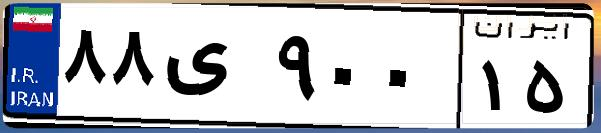0: (385, 28, 445, 110), (330, 28, 385, 110)
1: (475, 38, 525, 113)
5: (525, 38, 570, 115)
8: (57, 26, 110, 100), (110, 28, 158, 98)
9: (270, 28, 330, 110)
ی: (158, 20, 270, 120)
